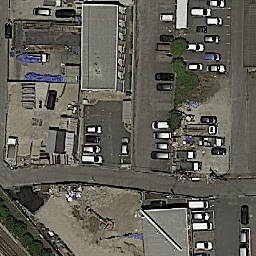car: (15, 51, 50, 64), (6, 135, 19, 159), (175, 161, 200, 172), (193, 240, 215, 252), (81, 154, 103, 165), (205, 63, 227, 74), (188, 199, 210, 210), (151, 119, 171, 131), (45, 90, 57, 110), (239, 204, 250, 225), (32, 6, 53, 17), (55, 8, 76, 19), (191, 221, 214, 231), (177, 148, 196, 160), (154, 72, 176, 82), (184, 42, 205, 52), (191, 7, 212, 17), (119, 136, 130, 155), (150, 150, 170, 160), (152, 131, 173, 140), (191, 212, 212, 221), (204, 51, 221, 62), (3, 22, 14, 39), (82, 145, 102, 154), (203, 34, 221, 44), (206, 16, 224, 26), (86, 124, 103, 134), (210, 146, 227, 156), (200, 115, 217, 125), (156, 43, 174, 52), (85, 135, 102, 144), (187, 62, 204, 71), (158, 13, 175, 22), (156, 83, 173, 92), (159, 34, 175, 43), (239, 229, 248, 244), (206, 1, 225, 8), (153, 142, 169, 150), (238, 245, 249, 256)
